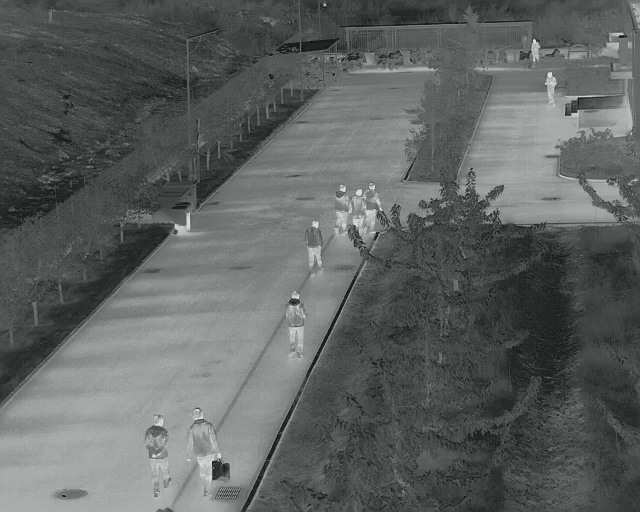person: (183, 407, 231, 498), (144, 414, 173, 500), (283, 289, 308, 359), (305, 219, 327, 277), (362, 180, 382, 236), (332, 183, 353, 236), (350, 187, 365, 233), (544, 70, 558, 109), (530, 37, 542, 68)
